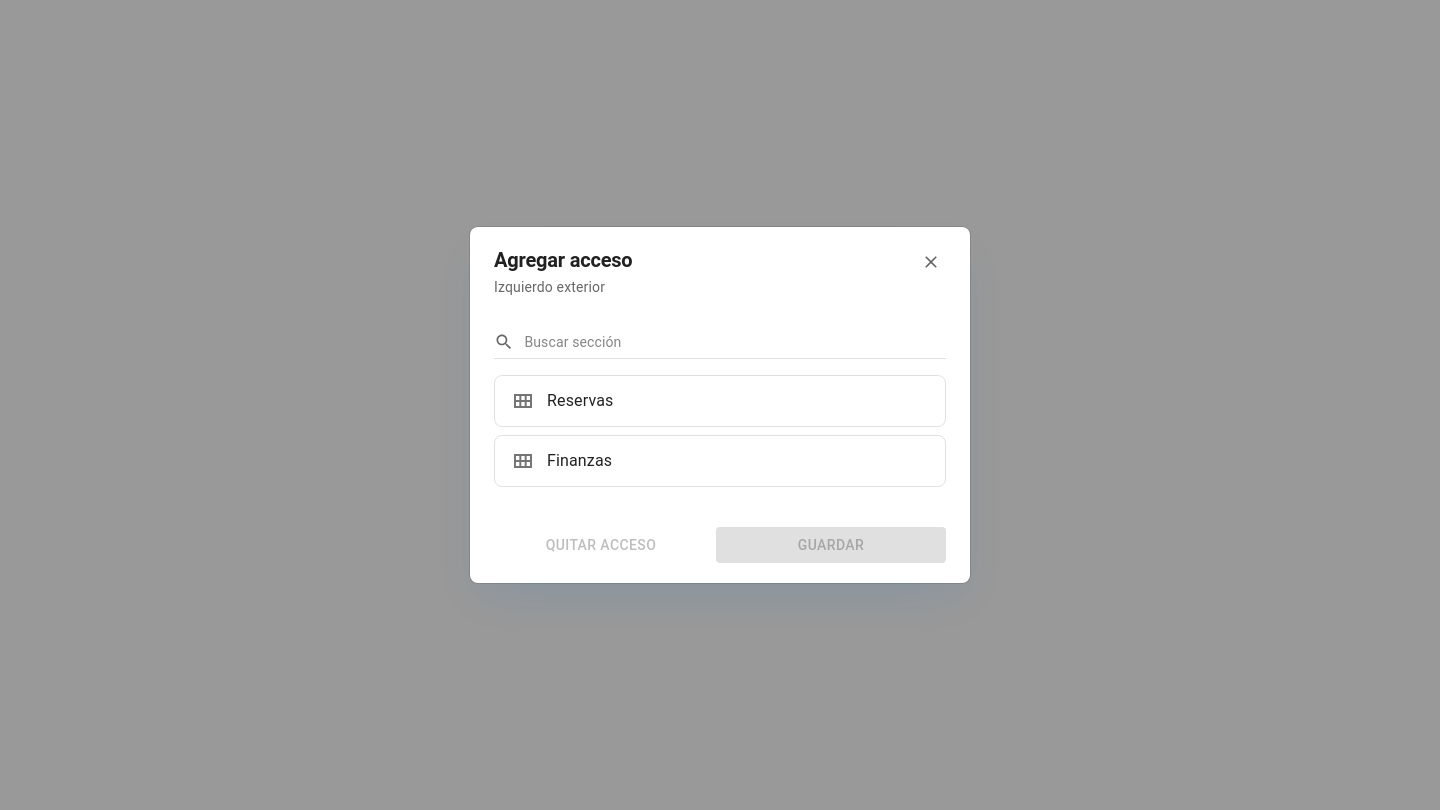
Test case: filters locally and reports no matches without changing the current selection
Click the radio button labelled "Reservas" at (580, 400), box [494,375,946,427]
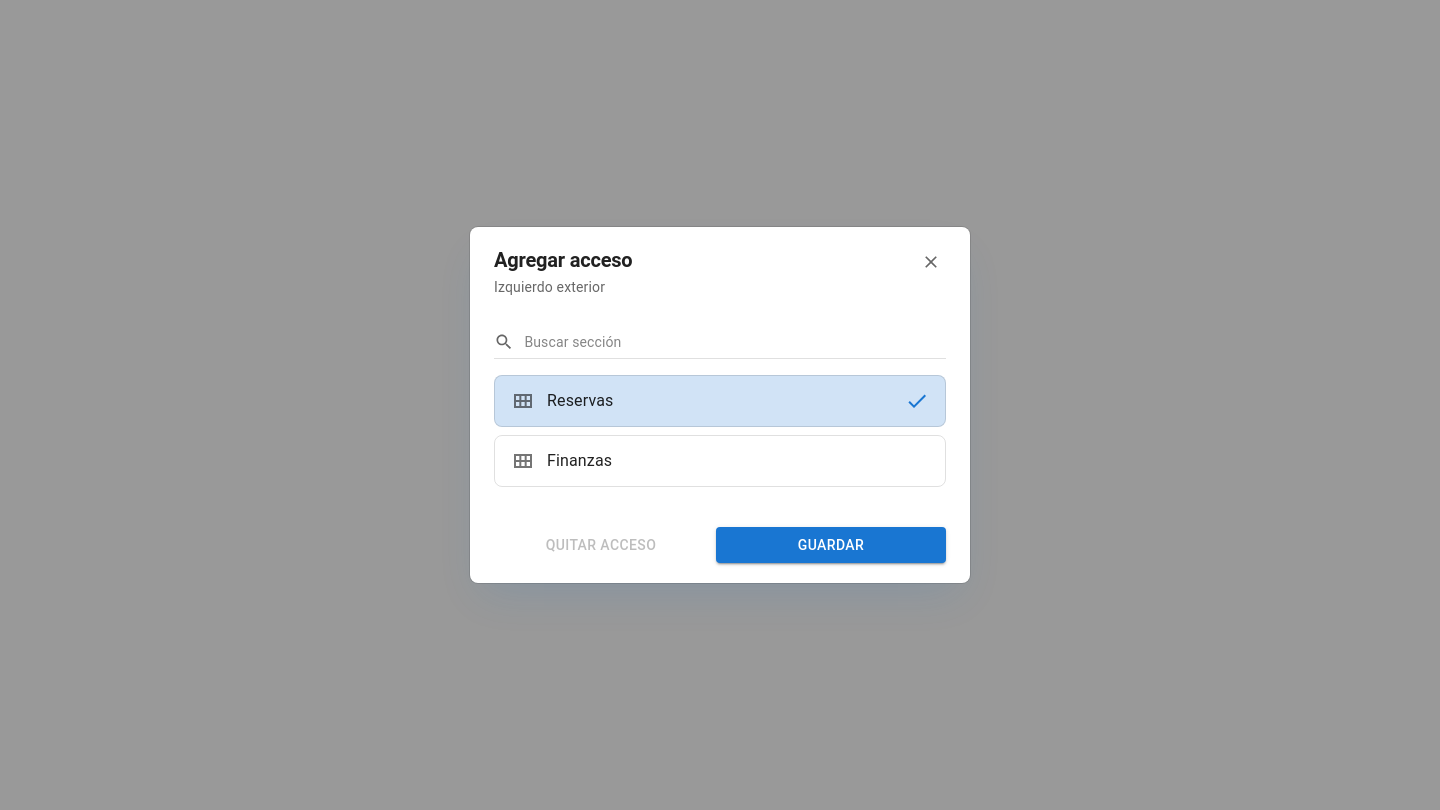
Type "xyz" into the field labelled "Buscar sección" at (735, 342), box [524,326,946,359]
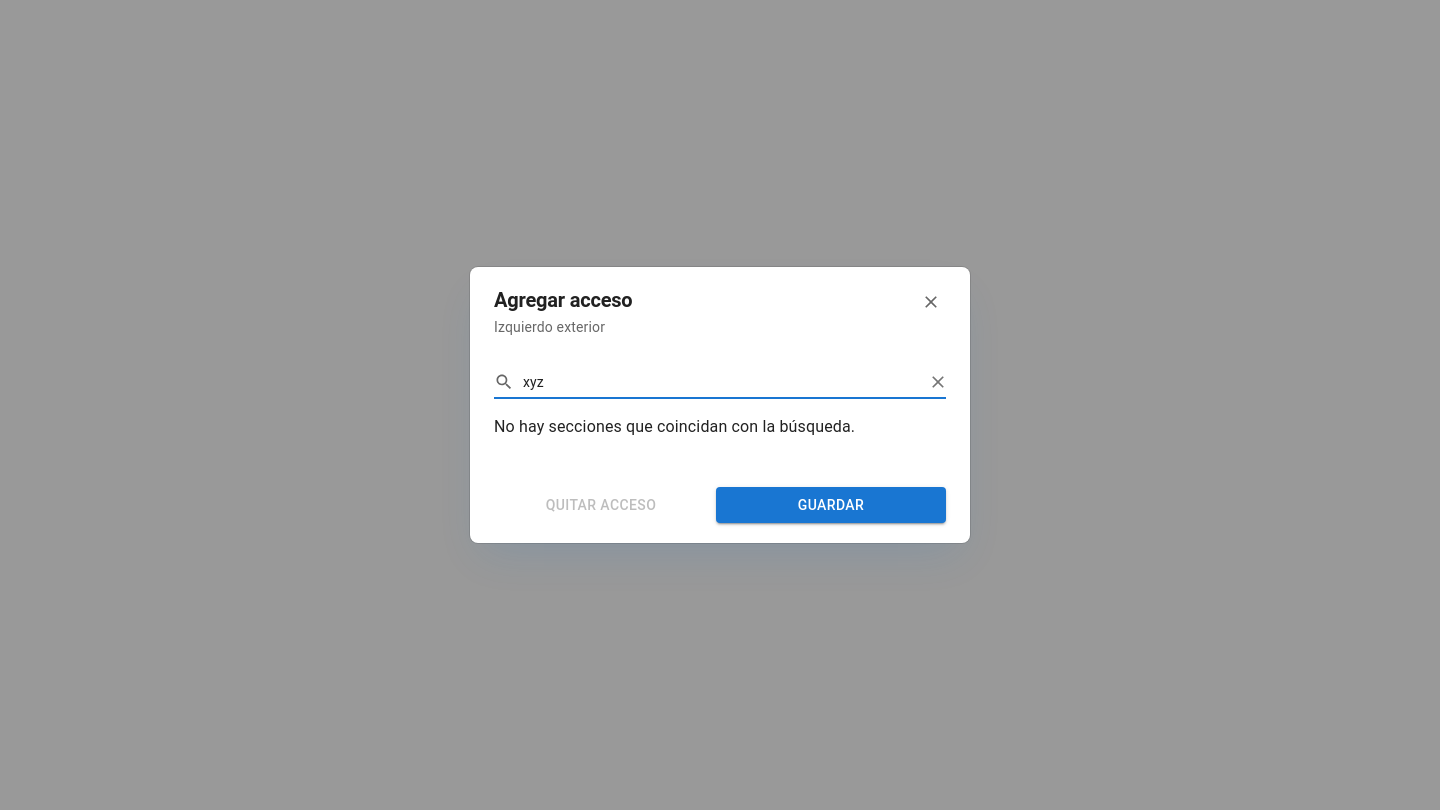
Expected: the button "Guardar" is enabled, [716,487,946,523]
Expected: the message reads "No hay secciones que coincidan con la búsqueda.", [494,417,855,436]
